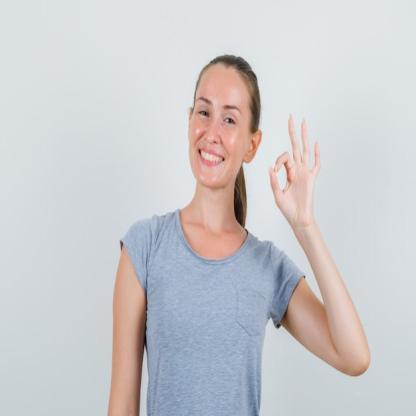ok: (264, 108, 324, 232)
